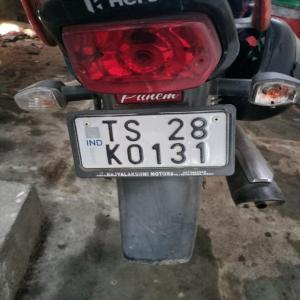Plate: (74, 112, 233, 170)
